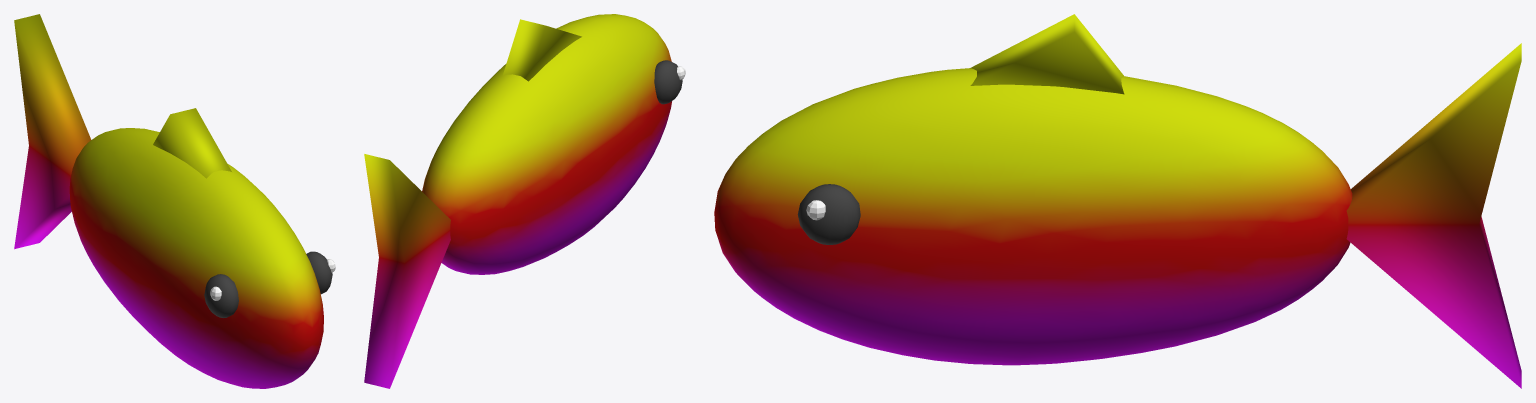
Rendered from fish.glb.
3 renders of one model, left to right at view 1: azimuth 30°, elevation 25°; view 2: azimuth 150°, elevation 25°; view 3: azimuth 270°, elevation 25°, orthographic. The views are drawn at different scales.
Parts seen in each view (by area): view 1: FishBody, FishEye.001, FishEye; view 2: FishBody, FishEye.001; view 3: FishBody, FishEye.
Boxes of the visible parts, x1,y1,x2,y2 form: FishBody: [14, 14, 323, 388]; FishEye.001: [204, 274, 238, 317]; FishEye: [306, 251, 332, 294]; FishBody: [364, 14, 671, 388]; FishEye.001: [654, 60, 682, 104]; FishBody: [714, 14, 1521, 388]; FishEye: [797, 184, 860, 244].
Bounding box in the file's own units: 0.192 × 0.37 × 0.7584.
